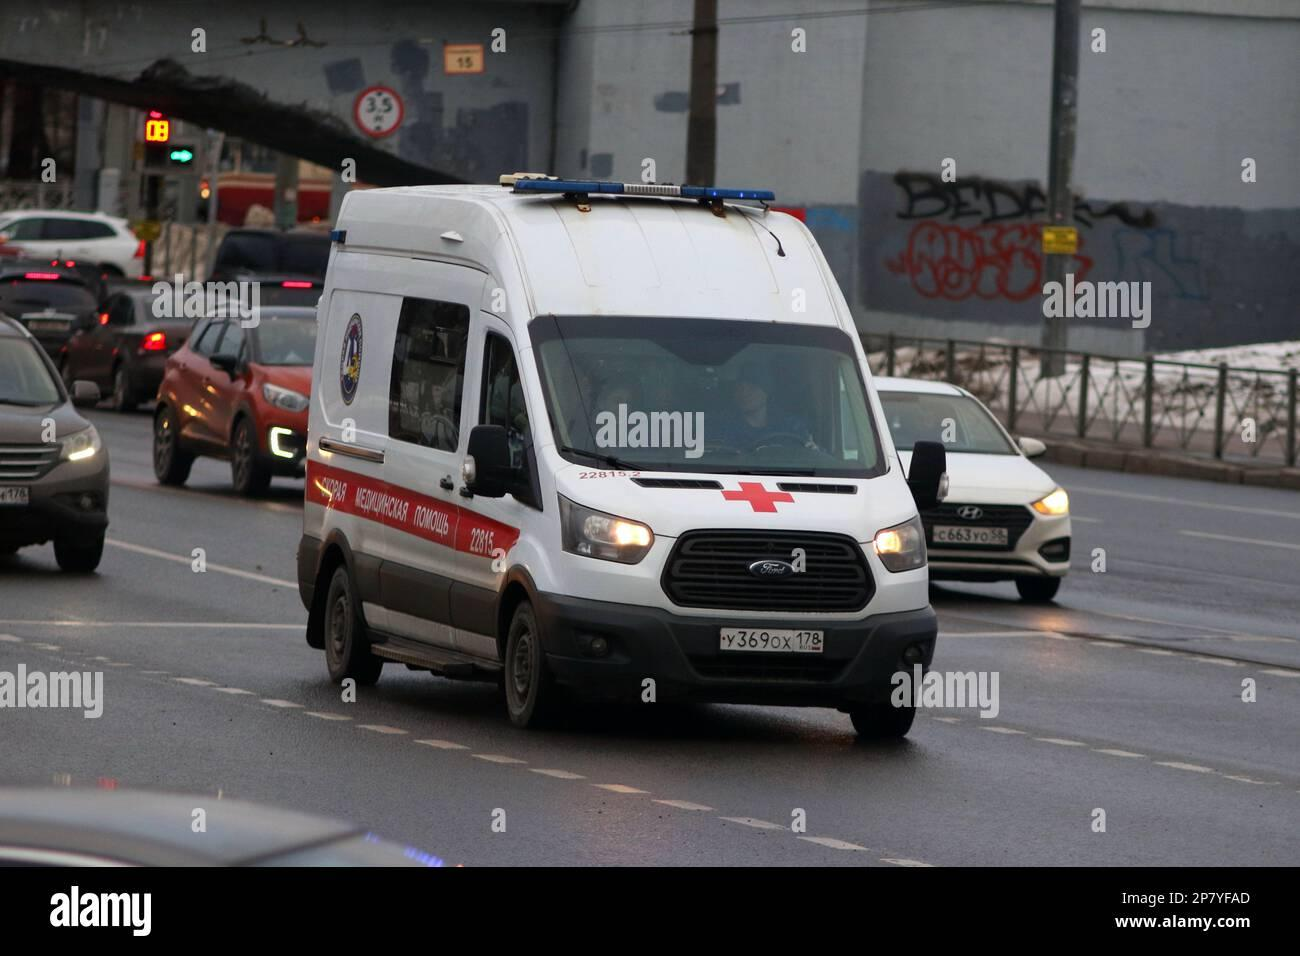ambulance_off: (301, 173, 947, 744)
